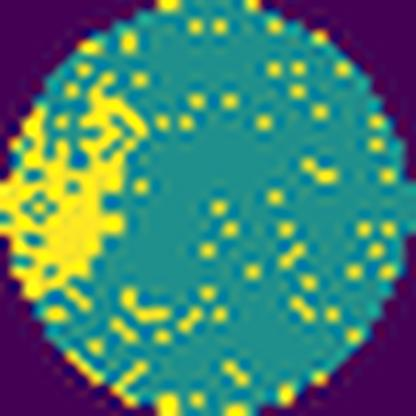Edge-Loc: (0, 67, 152, 311)
